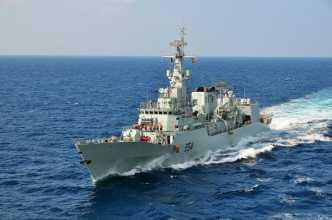warship: (70, 24, 271, 180)
